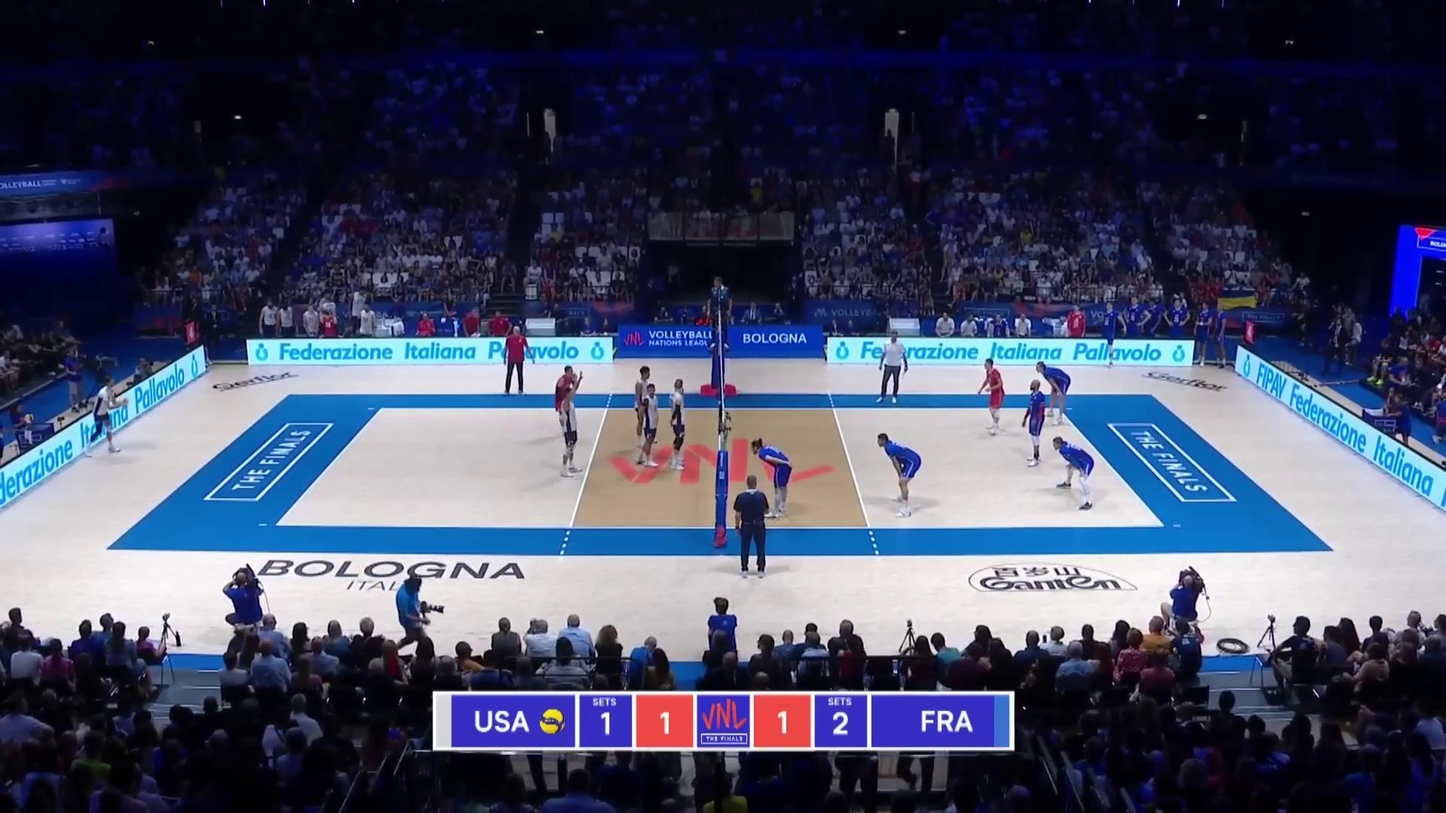player: (875, 431, 923, 516), (751, 439, 792, 519), (1052, 437, 1095, 510), (88, 376, 123, 458), (977, 357, 1007, 435), (1036, 361, 1072, 424), (1023, 380, 1046, 470), (635, 367, 657, 455), (639, 384, 661, 472), (667, 378, 688, 470), (560, 387, 582, 474), (557, 366, 579, 429)
refree: (735, 478, 771, 580), (706, 277, 732, 348)
